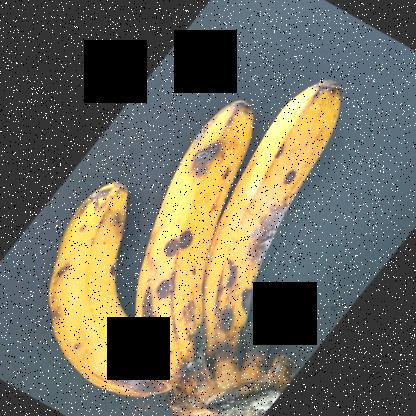overripe: (105, 83, 271, 392), (198, 74, 350, 348), (30, 175, 167, 411)
rotten: (242, 187, 317, 273)
